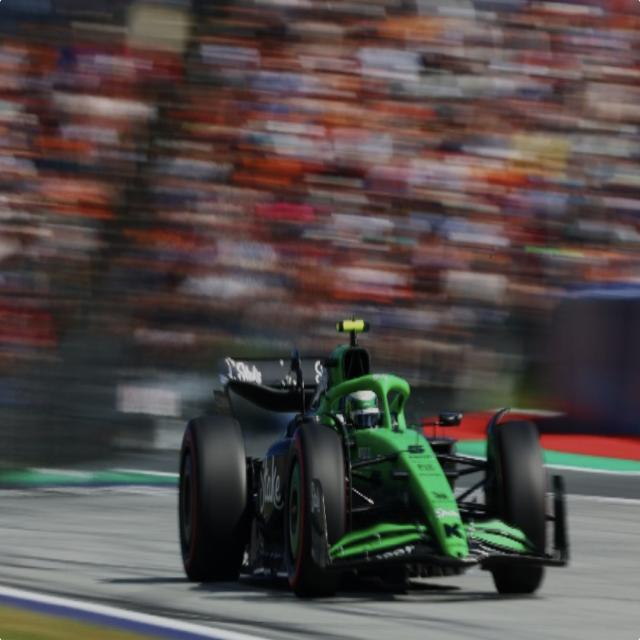Kick Sauber: (177, 316, 569, 600)
